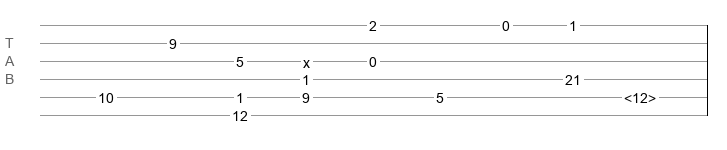0: (369, 54, 377, 64), (502, 18, 510, 28)
1: (236, 90, 244, 100), (302, 72, 310, 82), (569, 18, 577, 28)
10: (98, 90, 114, 100)
12: (232, 108, 248, 118)
2: (369, 18, 377, 28)
21: (565, 72, 581, 82)
5: (236, 54, 244, 64), (436, 90, 444, 100)
9: (169, 36, 177, 46), (302, 90, 310, 100)
harmonic: (624, 90, 656, 100)
x: (303, 55, 310, 63)
